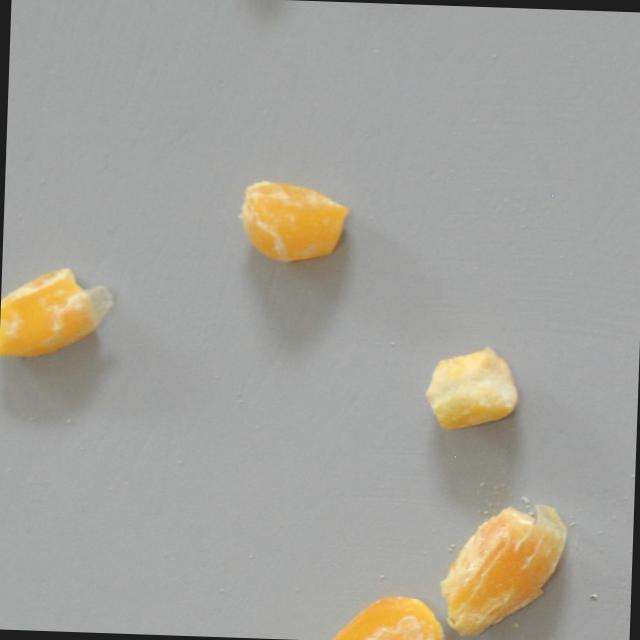pelicula: (438, 500, 567, 640), (0, 261, 113, 360), (237, 179, 350, 266), (421, 343, 521, 433), (314, 592, 445, 640)
